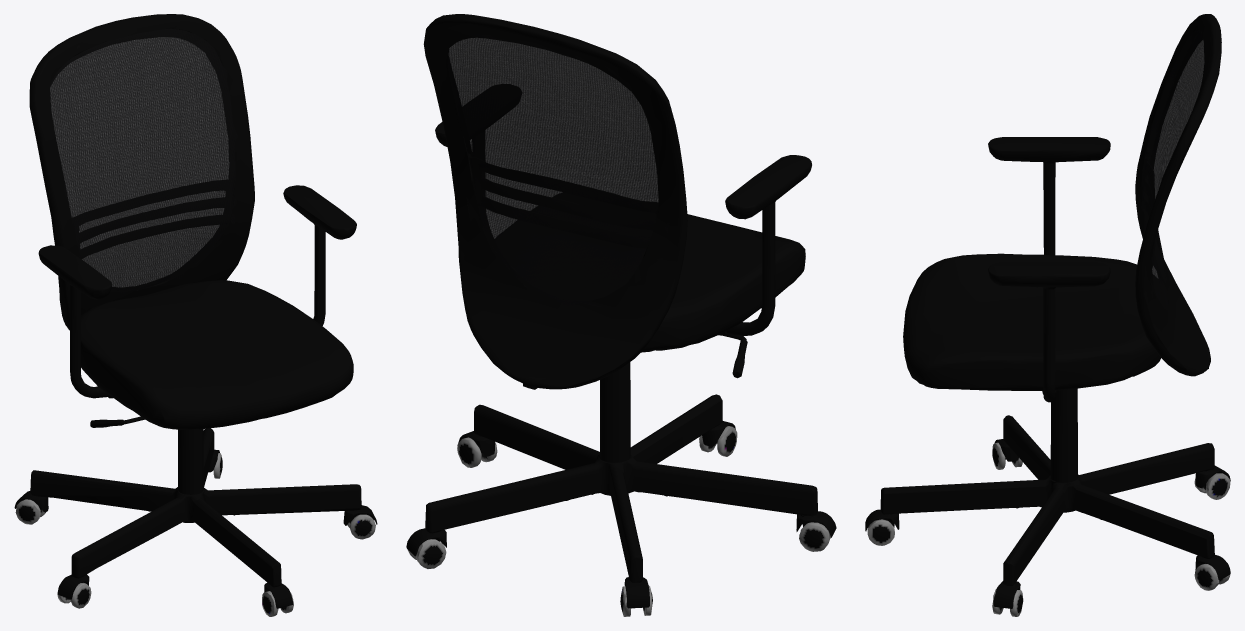
Rendered from flintan_krzeso_biurowe_z_podokietnikami_89424468.glb.
The picture shows the model from 3 angles, left to right: view 1: azimuth 30°, elevation 25°; view 2: azimuth 150°, elevation 25°; view 3: azimuth 270°, elevation 25°; orthographic projection. The views are drawn at different scales.
Visible parts, largest first — view 1: flintan_krzeso_biurowe_z_podokietnikami_89424468; view 2: flintan_krzeso_biurowe_z_podokietnikami_89424468; view 3: flintan_krzeso_biurowe_z_podokietnikami_89424468.
Part boxes in pixels (x1=…): flintan_krzeso_biurowe_z_podokietnikami_89424468: x1=14, y1=14, x2=377, y2=616; flintan_krzeso_biurowe_z_podokietnikami_89424468: x1=406, y1=14, x2=836, y2=616; flintan_krzeso_biurowe_z_podokietnikami_89424468: x1=865, y1=14, x2=1230, y2=616.
Size of the model in its own units: 0.711 by 1.02 by 0.677.
2 materials, 2 textured.
